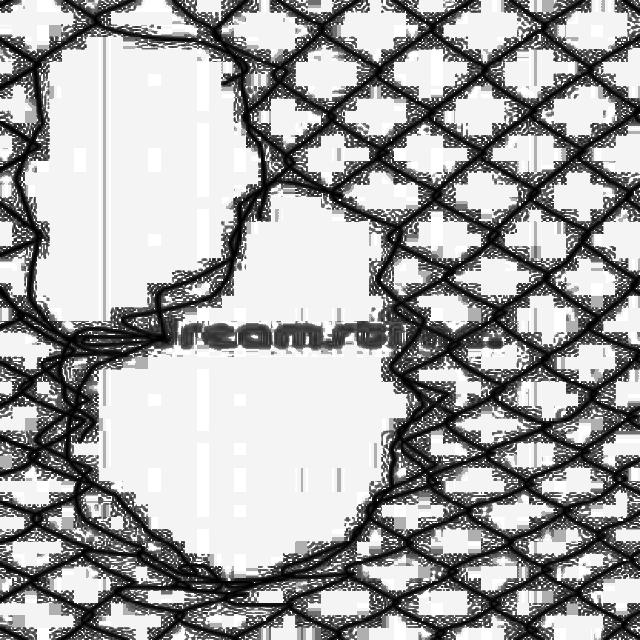anomaly-fence: (11, 20, 435, 598)
